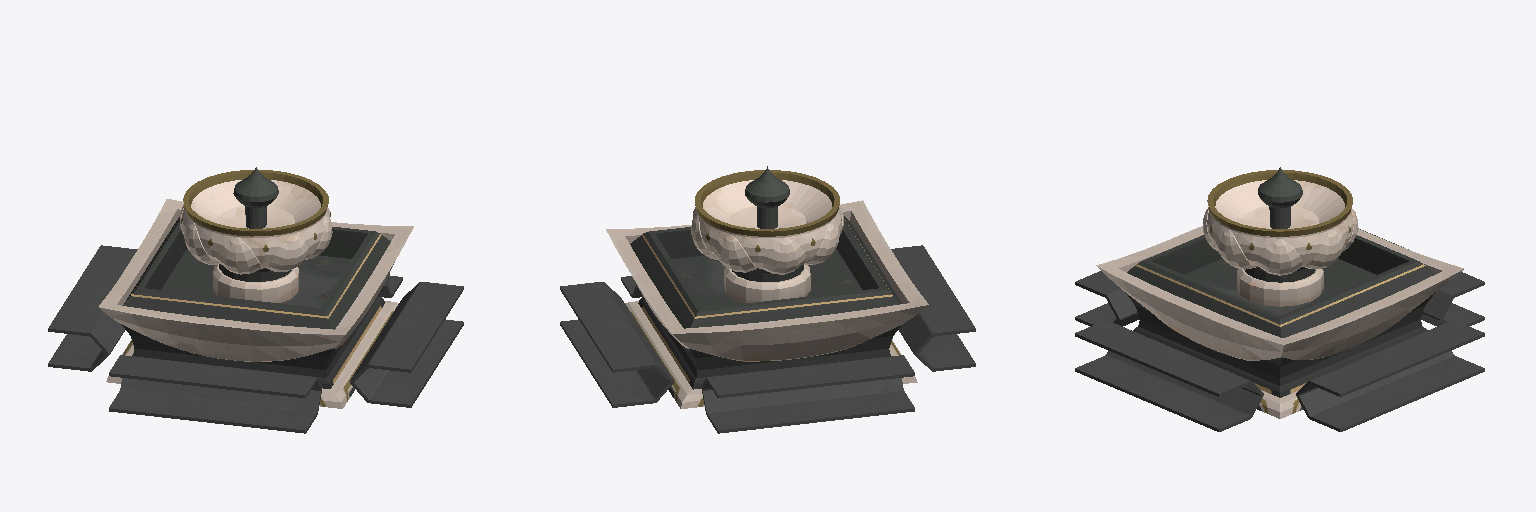
The picture shows the model from 3 angles: view 1: azimuth 30°, elevation 25°; view 2: azimuth 150°, elevation 25°; view 3: azimuth 270°, elevation 25°; orthographic projection.
Visible parts, largest first — view 1: FountainCenter_FountainCenterMesh, FountainSide04_FountainSide04Mesh, FountainSide01_FountainSide01Mesh, FountainSide02_FountainSide02Mesh; view 2: FountainCenter_FountainCenterMesh, FountainSide02_FountainSide02Mesh, FountainSide03_FountainSide03Mesh, FountainSide04_FountainSide04Mesh; view 3: FountainCenter_FountainCenterMesh, FountainSide01_FountainSide01Mesh, FountainSide03_FountainSide03Mesh, FountainSide04_FountainSide04Mesh, FountainSide02_FountainSide02Mesh.
Boxes of the visible parts, <box> form: FountainCenter_FountainCenterMesh: <box>98,167,413,408</box>; FountainSide04_FountainSide04Mesh: <box>109,355,321,433</box>; FountainSide01_FountainSide01Mesh: <box>350,282,463,407</box>; FountainSide02_FountainSide02Mesh: <box>48,245,137,371</box>; FountainCenter_FountainCenterMesh: <box>606,166,928,408</box>; FountainSide02_FountainSide02Mesh: <box>702,355,914,433</box>; FountainSide03_FountainSide03Mesh: <box>560,282,673,407</box>; FountainSide04_FountainSide04Mesh: <box>891,245,975,371</box>; FountainCenter_FountainCenterMesh: <box>1096,167,1463,418</box>; FountainSide01_FountainSide01Mesh: <box>1075,320,1263,431</box>; FountainSide03_FountainSide03Mesh: <box>1296,320,1484,431</box>; FountainSide04_FountainSide04Mesh: <box>1075,271,1139,326</box>; FountainSide02_FountainSide02Mesh: <box>1358,228,1484,326</box>.
Size of the model in its own units: 5.24 by 2.54 by 5.24.
Materials: 2 (2 with a texture image).